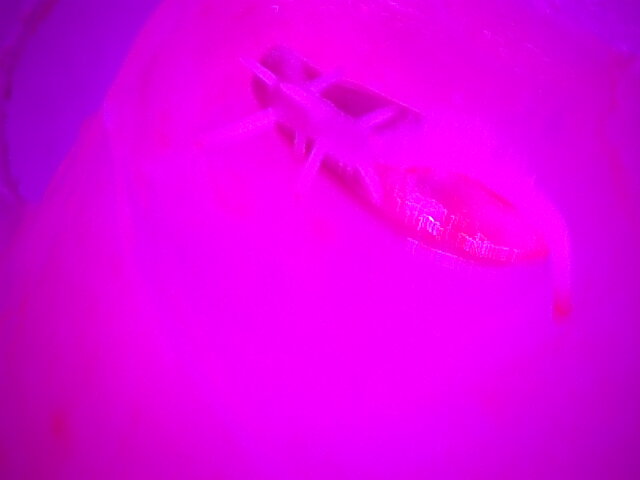sprout: (248, 38, 588, 336)
